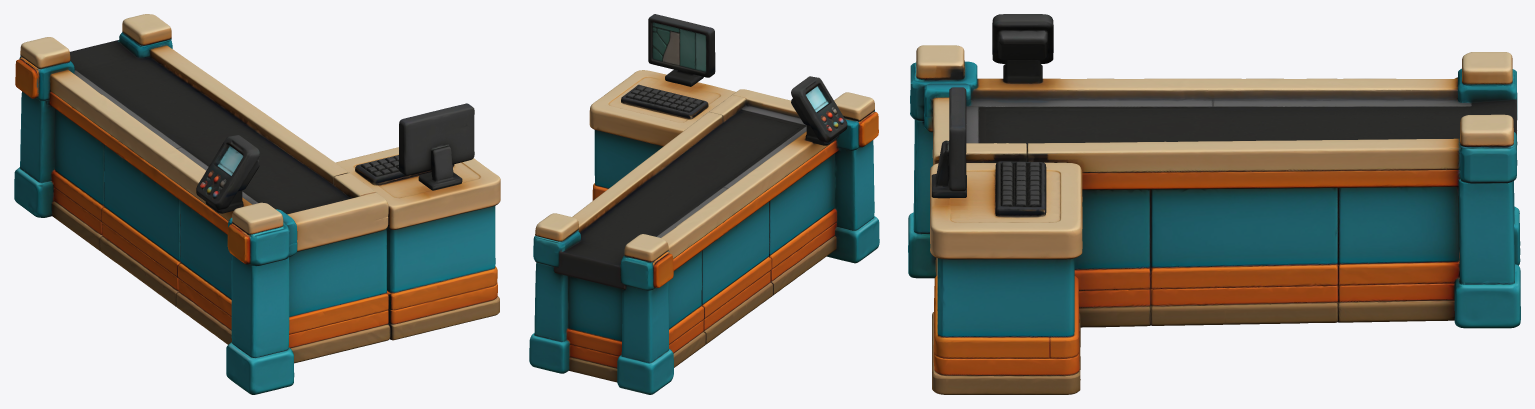
Rendered from CheckoutCounter.fbx.
3 views of the same model, side by side, from view 1: azimuth 30°, elevation 25°; view 2: azimuth 150°, elevation 25°; view 3: azimuth 270°, elevation 25° (orthographic). The views are drawn at different scales.
Visible parts, largest first — view 1: tripo_node_79d90b9b-a03b-4f13-8776-c7ba1878d521; view 2: tripo_node_79d90b9b-a03b-4f13-8776-c7ba1878d521; view 3: tripo_node_79d90b9b-a03b-4f13-8776-c7ba1878d521.
Boxes of the visible parts, bbox=[...] form: tripo_node_79d90b9b-a03b-4f13-8776-c7ba1878d521: bbox=[14, 14, 500, 394]; tripo_node_79d90b9b-a03b-4f13-8776-c7ba1878d521: bbox=[529, 14, 879, 394]; tripo_node_79d90b9b-a03b-4f13-8776-c7ba1878d521: bbox=[908, 14, 1520, 394].
Bounding box in the file's own units: 60.35 × 47.63 × 98.08.
Materials: 1 (1 with a texture image).
